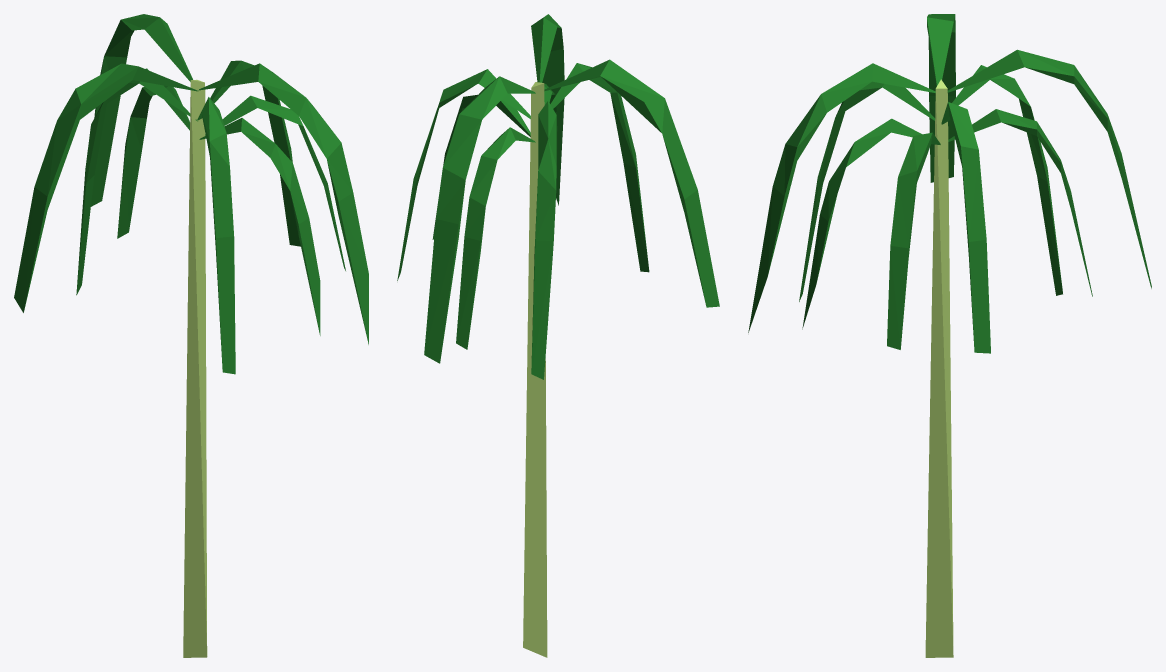
File: ソルガム.fbx
3 views of the same model, side by side, from view 1: azimuth 30°, elevation 25°; view 2: azimuth 150°, elevation 25°; view 3: azimuth 270°, elevation 25° (orthographic).
Parts seen in each view (by area): view 1: 立方体.007, 円柱; view 2: 立方体.007, 円柱; view 3: 立方体.007, 円柱.
Part boxes in pixels (x1,y1,x2,y2): 立方体.007: (14, 14, 368, 374); 円柱: (183, 79, 207, 657); 立方体.007: (397, 14, 719, 379); 円柱: (523, 82, 547, 657); 立方体.007: (748, 14, 1151, 353); 円柱: (925, 79, 953, 657).
Size of the model in its own units: 117 by 224 by 134.
